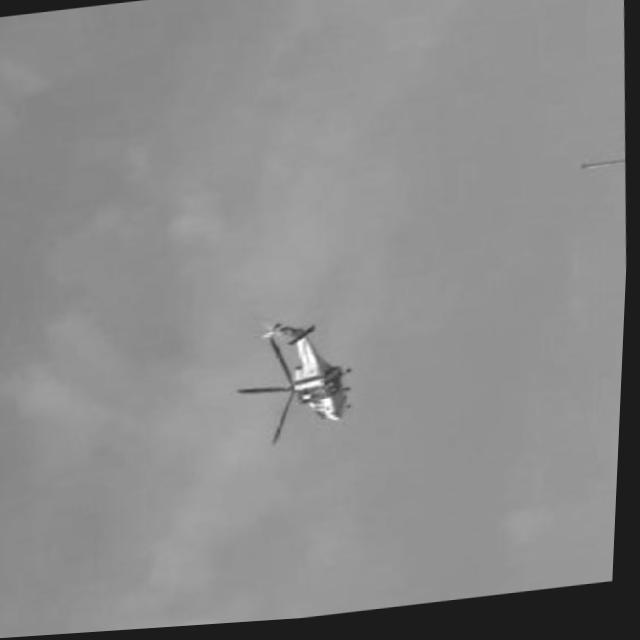helikopter: (237, 317, 363, 450)
